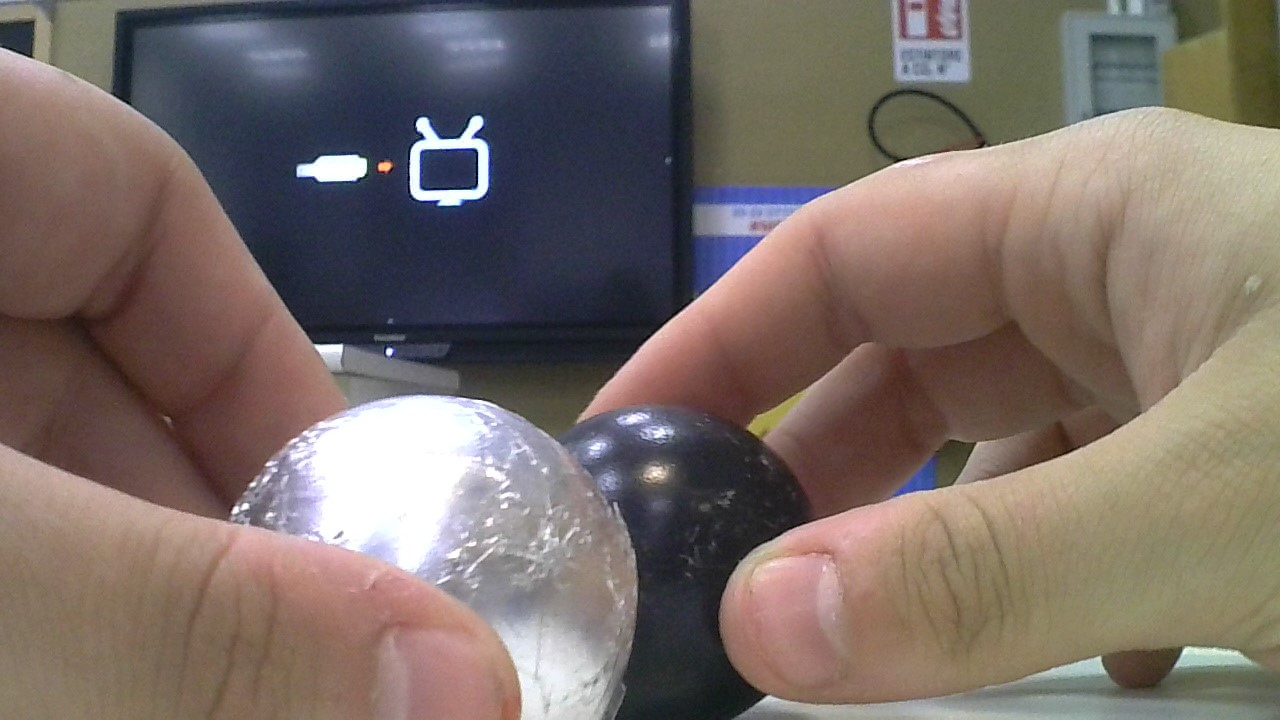black_ball: (563, 398, 814, 720)
silver_ball: (227, 391, 641, 720)
